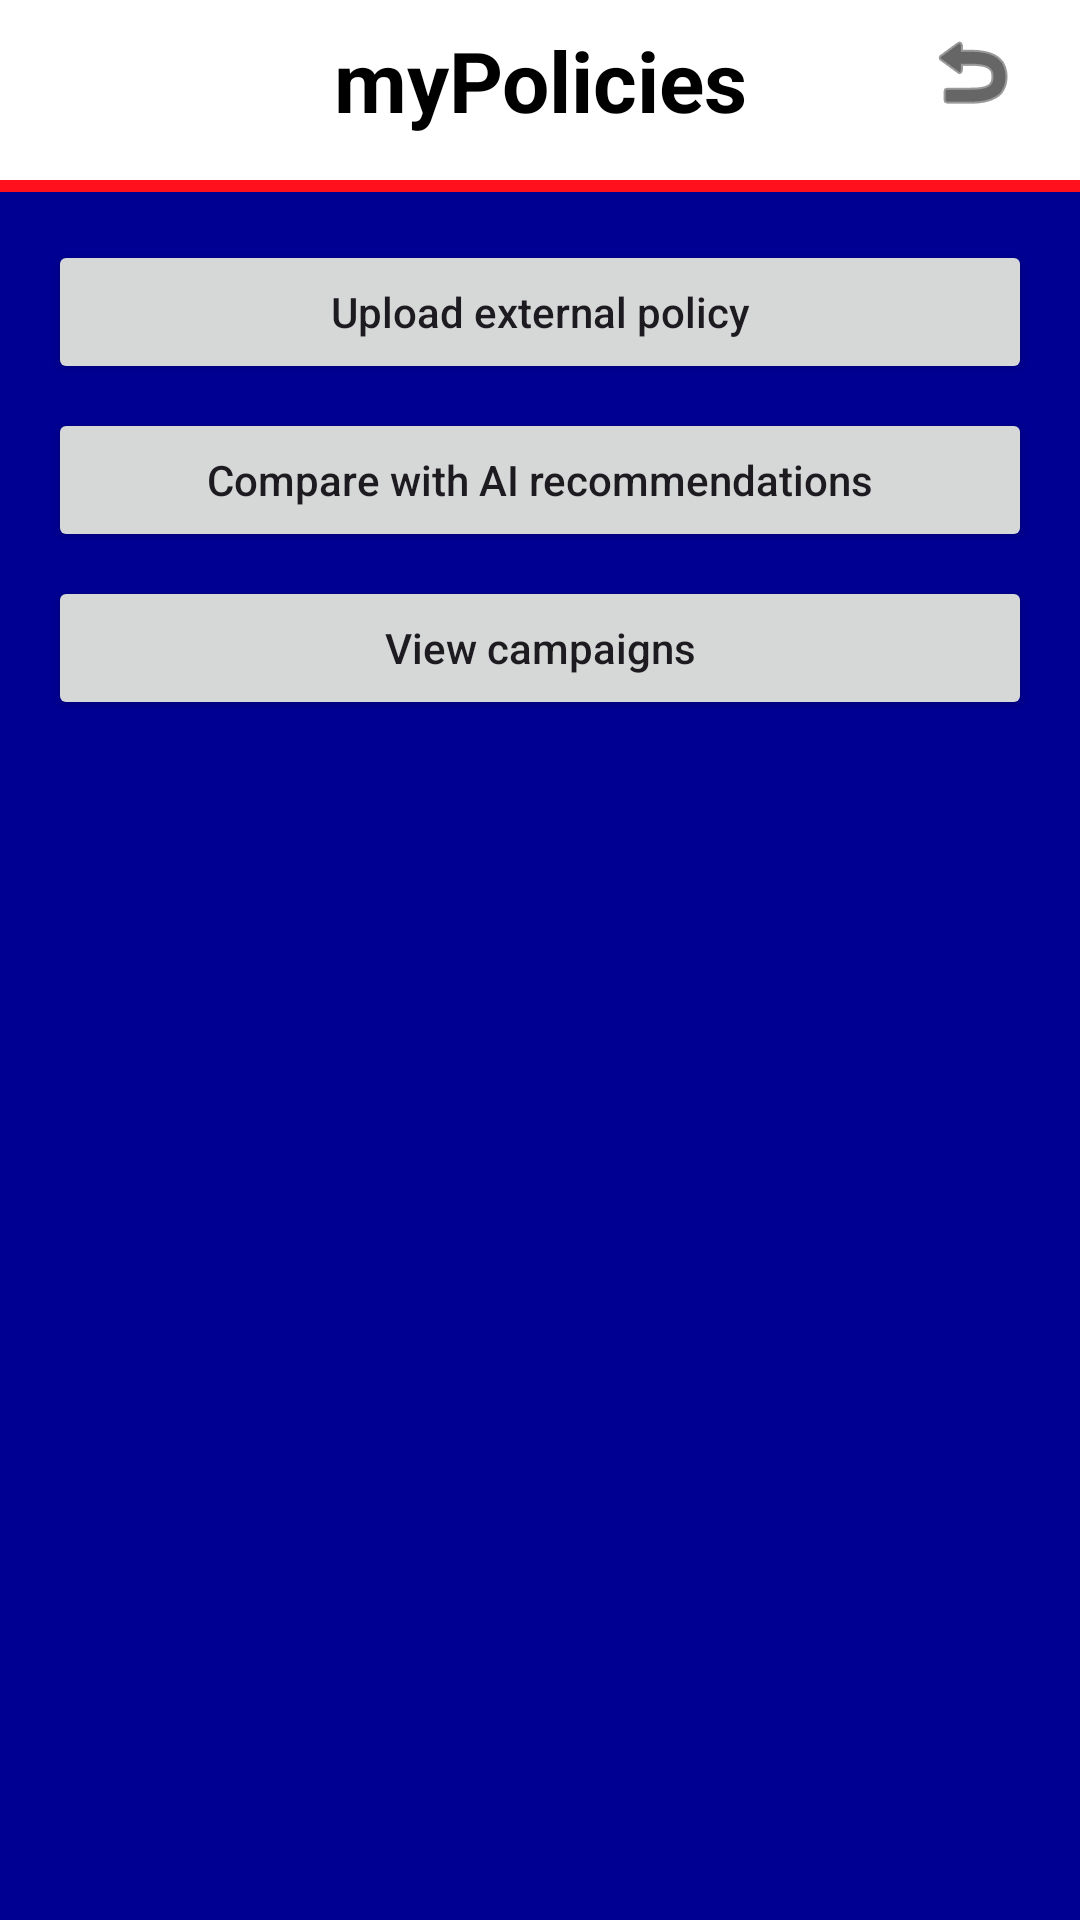

Screen size 1080w x 1920h. Icon name, then its box in pixels as (x1=x1, y1=y1, x2=x2, y2=y2):
Return: (x1=939, y1=41, x2=1008, y2=104)
